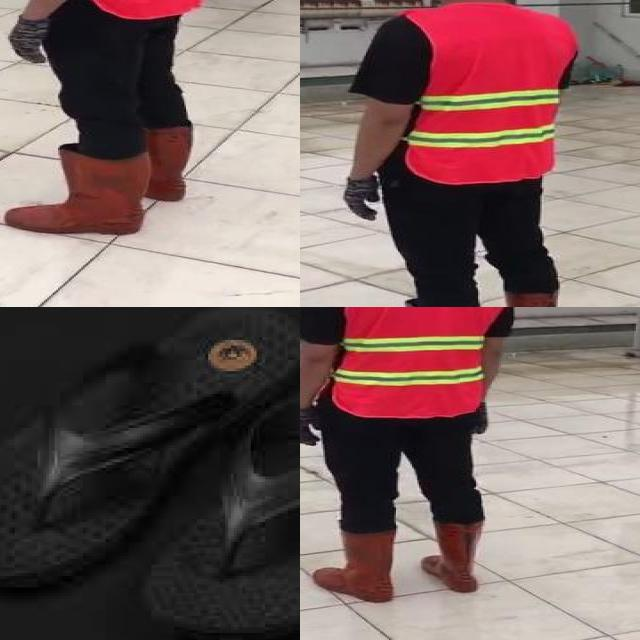Sandals: (0, 307, 300, 640)
boots: (7, 148, 148, 237), (309, 522, 401, 604), (143, 115, 204, 201), (426, 519, 490, 595), (479, 289, 563, 307)
hand_glove: (10, 19, 54, 65), (345, 180, 387, 220), (300, 405, 331, 446)
person: (322, 0, 585, 307), (300, 307, 525, 606), (0, 0, 234, 247)
vest: (400, 4, 579, 182), (326, 307, 506, 417)
